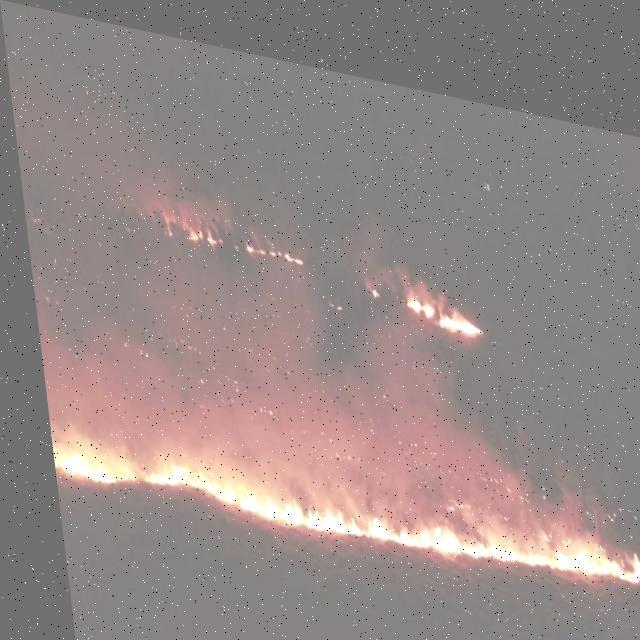Fire: (42, 425, 639, 588), (401, 278, 480, 326), (158, 204, 220, 242), (239, 224, 300, 256), (364, 273, 376, 284)
